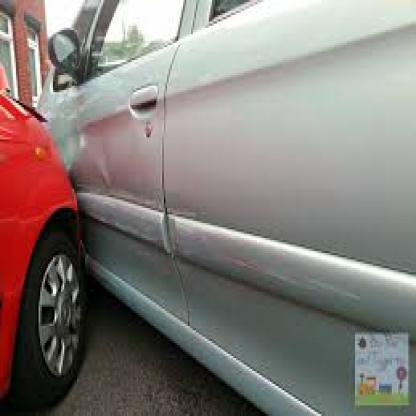dent: (64, 102, 124, 196)
